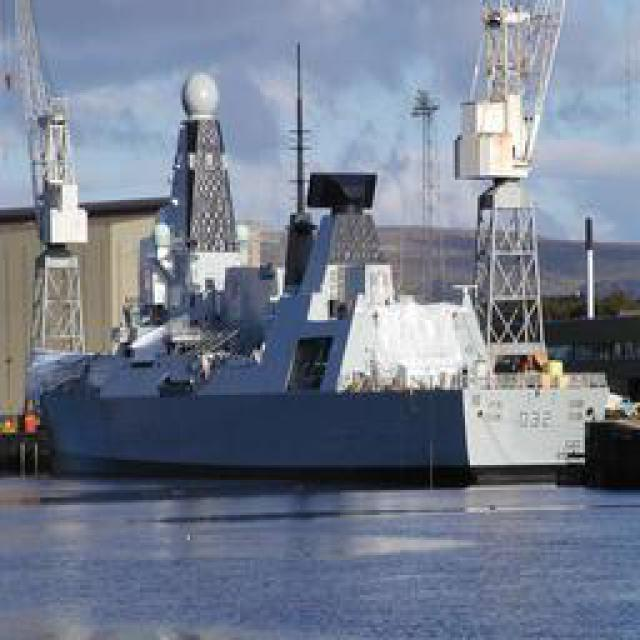Ship: (25, 154, 612, 502)
